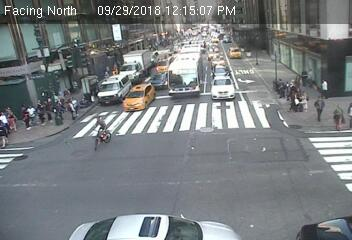car: (69, 216, 239, 240), (168, 53, 204, 96), (296, 214, 352, 239), (120, 49, 149, 80), (124, 84, 155, 111), (98, 74, 128, 100), (209, 75, 236, 98), (151, 72, 170, 88), (155, 58, 170, 74), (227, 45, 243, 59), (211, 64, 231, 75), (207, 49, 222, 60), (211, 35, 220, 44), (221, 34, 230, 42)
